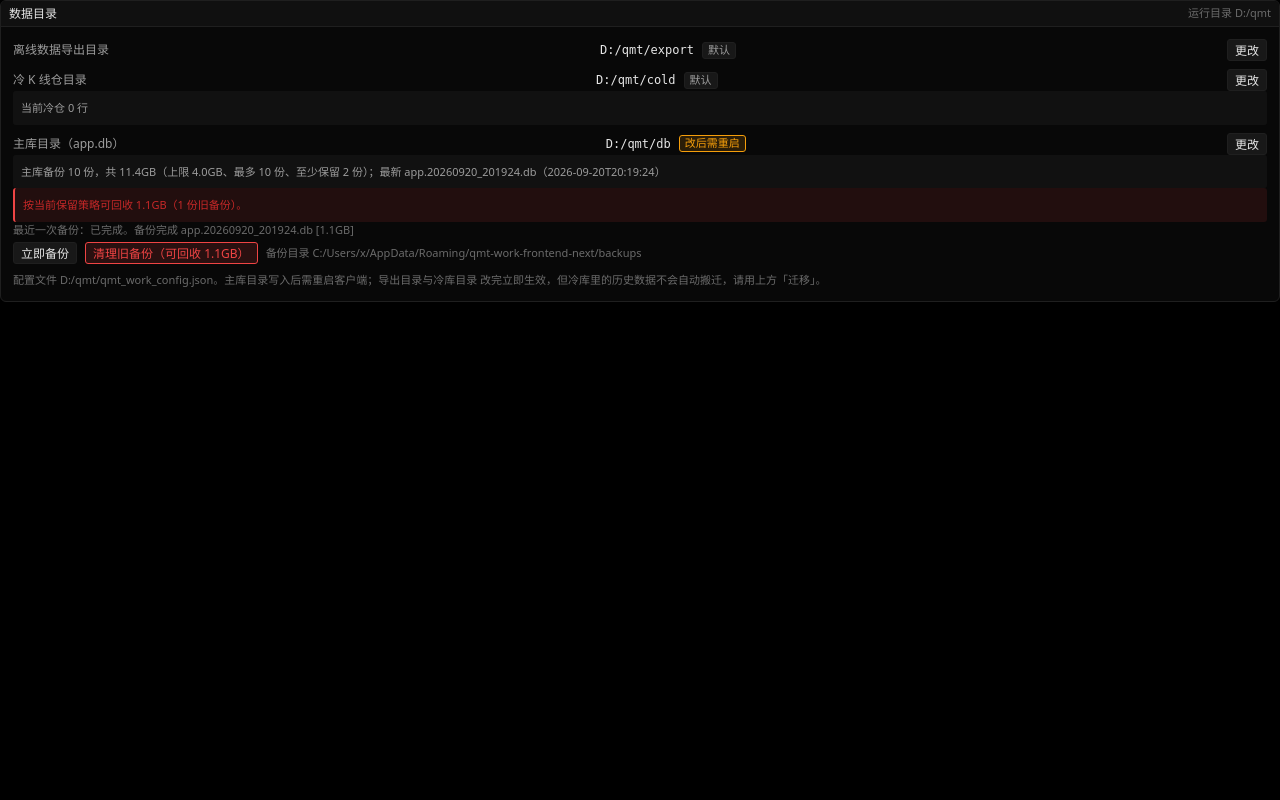
Test: 数据目录面板 · 备份占用 › 确认后才真的清理，并把释放量如实回报
This screenshot has width=1280, height=800.
Click the button "清理旧备份（可回收 1.1GB）": (171, 253) [85, 242, 258, 264]
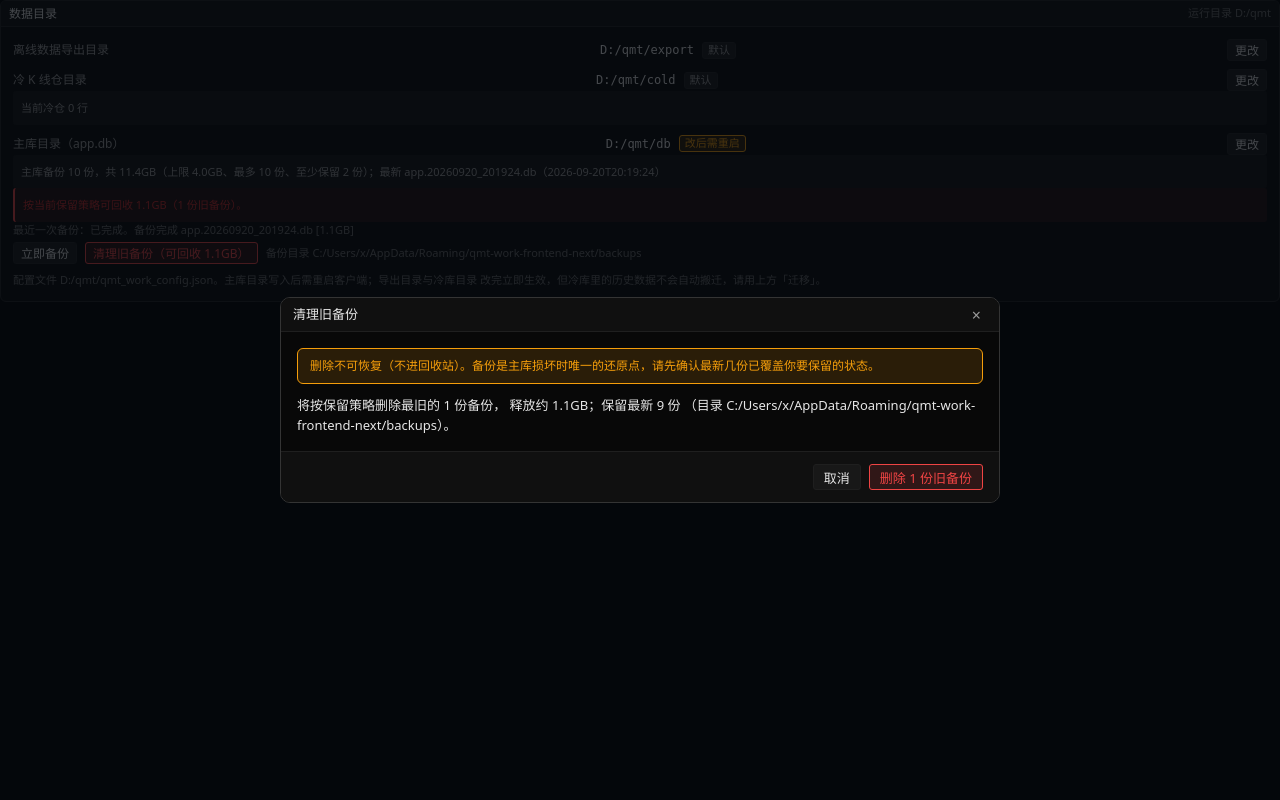
expect the text "清理旧备份" is shown: met, box [293, 305, 358, 324]
Click the button "删除 1 份旧备份": (926, 477) [869, 464, 983, 490]
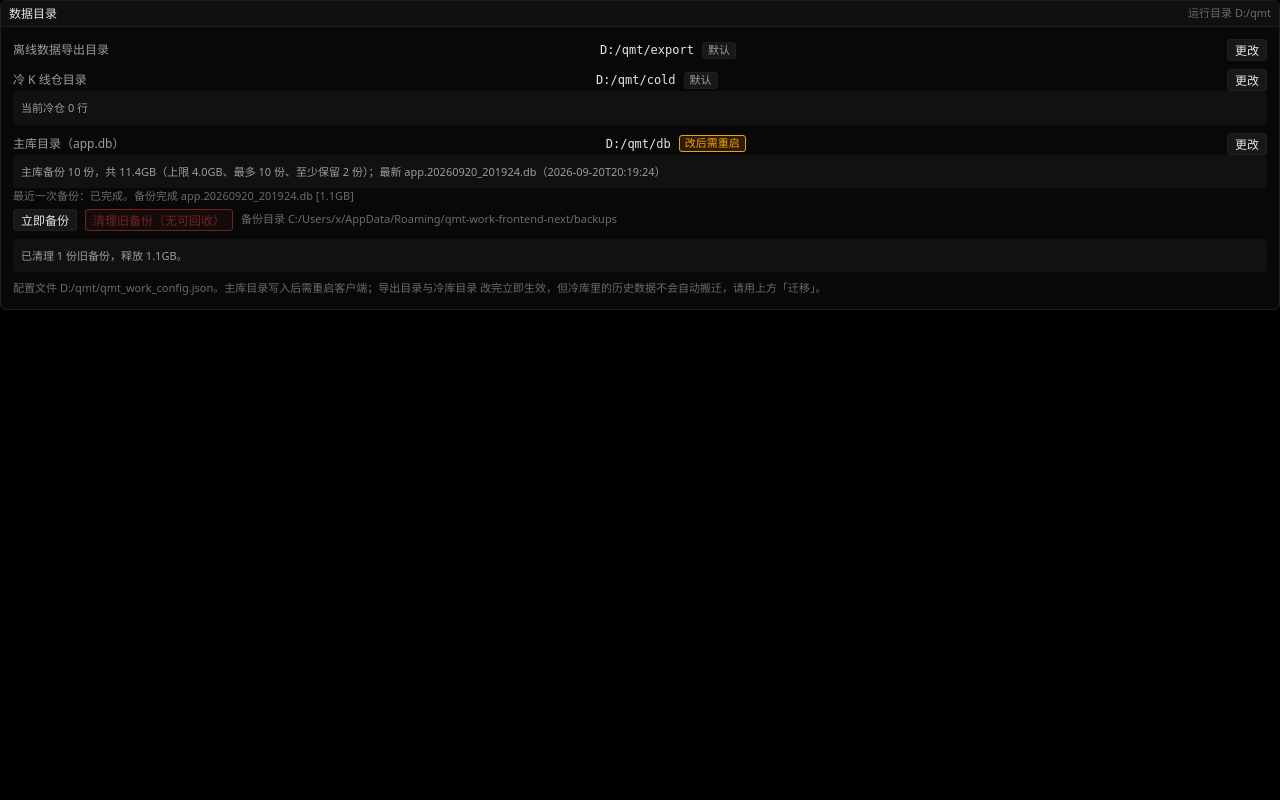
expect the text "已清理 1 份旧备份，释放 1.1GB。" is shown: met, box [13, 239, 1267, 272]
